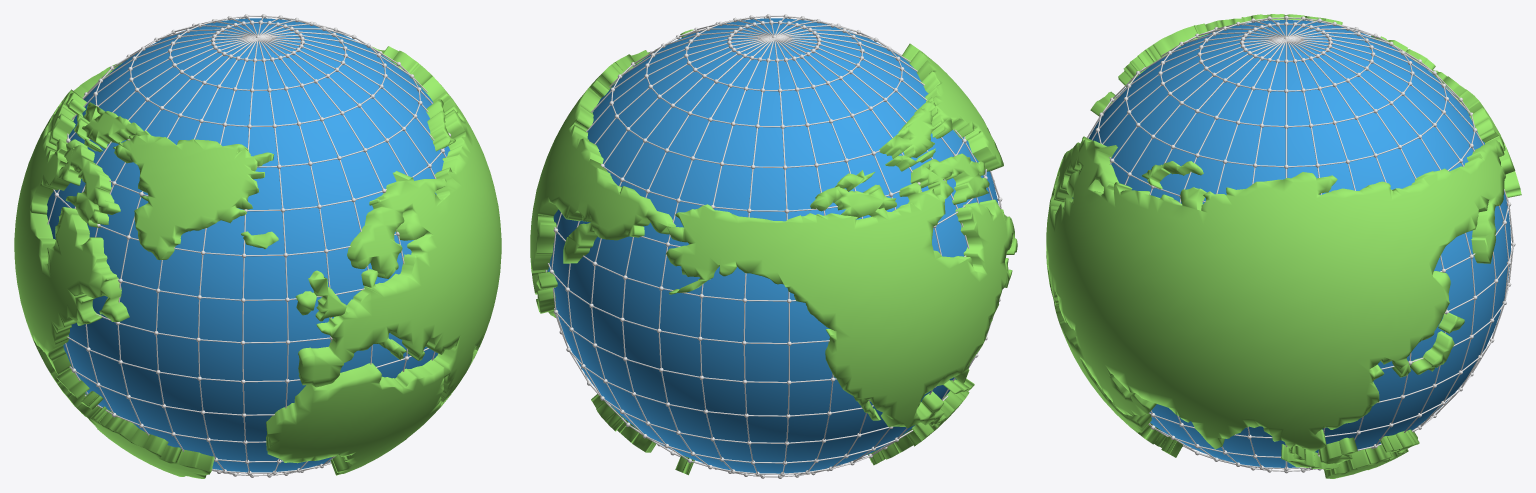
File: globl2.glb
The picture shows the model from 3 angles, left to right: view 1: azimuth 30°, elevation 25°; view 2: azimuth 150°, elevation 25°; view 3: azimuth 270°, elevation 25°; orthographic projection.
Visible parts, largest first — view 1: Icosphere, map, Sphere wire; view 2: Icosphere, map, Sphere wire; view 3: map, Icosphere, Sphere wire.
Boxes of the visible parts, box(x1,y1,x2,y2) form: Icosphere: box(47, 18, 450, 472); map: box(14, 46, 501, 478); Sphere wire: box(47, 15, 448, 476); Icosphere: box(547, 18, 998, 473); map: box(530, 29, 1017, 475); Sphere wire: box(545, 15, 1001, 477); map: box(1046, 14, 1521, 478); Icosphere: box(1072, 20, 1510, 467); Sphere wire: box(1087, 17, 1513, 471).
Bounding box in the file's own units: 2.14 × 2.04 × 2.12.
